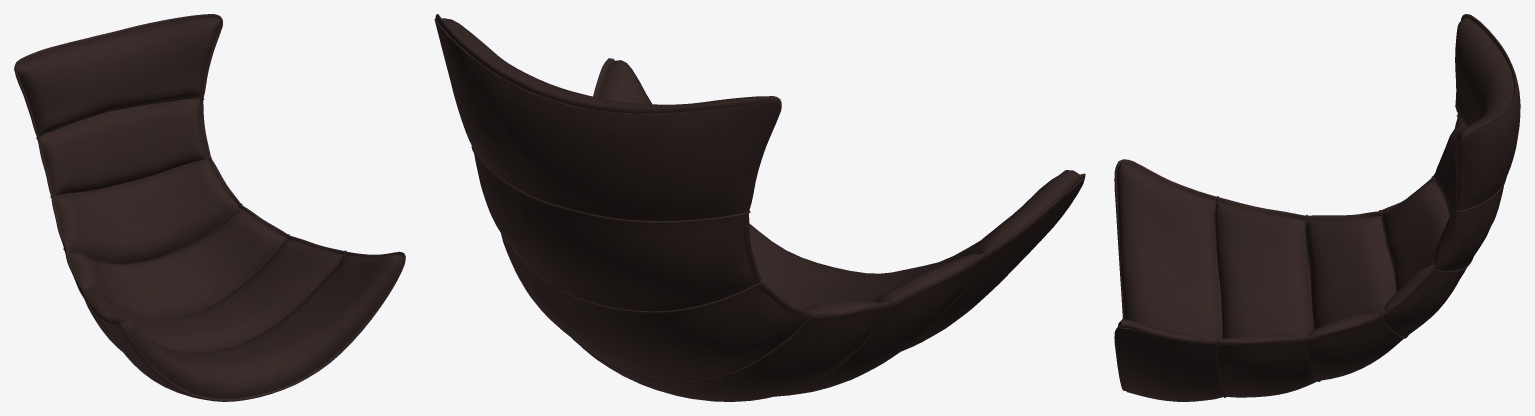
3 renders of one model, left to right at view 1: azimuth 30°, elevation 25°; view 2: azimuth 150°, elevation 25°; view 3: azimuth 270°, elevation 25°, orthographic. The views are drawn at different scales.
Visible parts, largest first — view 1: test; view 2: test; view 3: test.
Part boxes in pixels (x1,y1,x2,y2): test: (14, 14, 405, 401); test: (434, 14, 1085, 401); test: (1114, 14, 1520, 401).
Size of the model in its own units: 0.765 by 0.6688 by 0.7921.
1 material, 1 textured.
